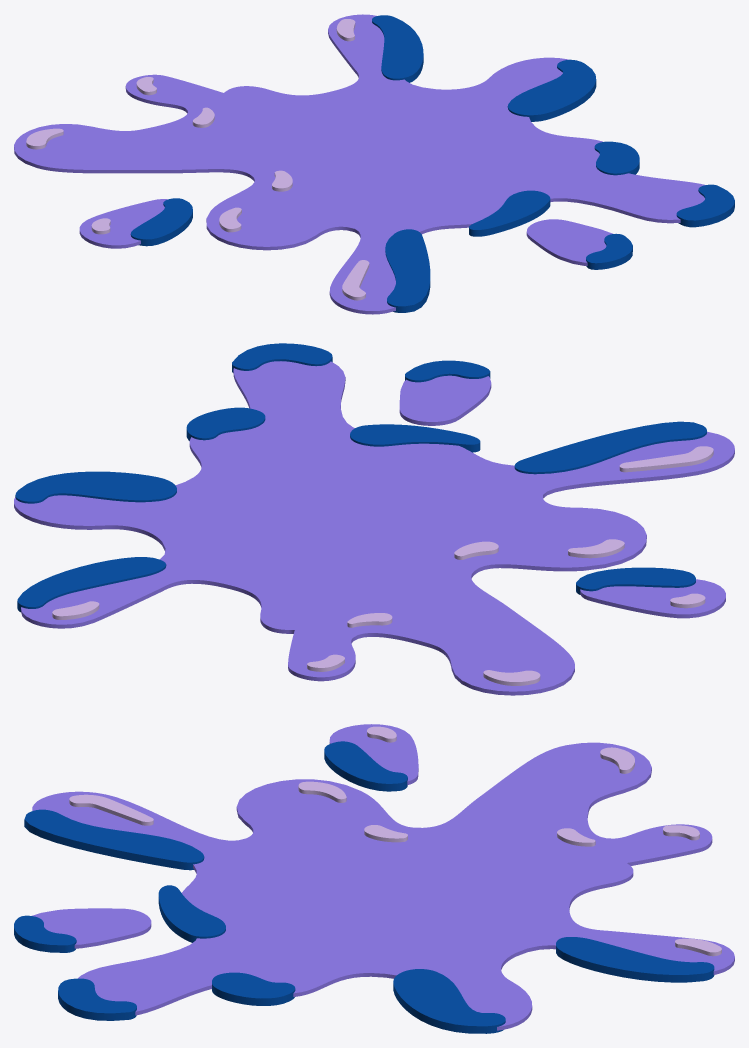
The model's file is emoji_u1fadf.glb.
3 views of the same model, one above another, from view 1: azimuth 30°, elevation 25°; view 2: azimuth 150°, elevation 25°; view 3: azimuth 270°, elevation 25° (orthographic). The views are drawn at different scales.
Visible parts, largest first — view 1: emoji_u1fadf; view 2: emoji_u1fadf; view 3: emoji_u1fadf.
Part boxes in pixels (<box>): emoji_u1fadf: <box>14,14,734,314</box>; emoji_u1fadf: <box>14,343,734,695</box>; emoji_u1fadf: <box>14,724,734,1033</box>.
Size of the model in its own units: 0.0343 by 0.0006 by 0.0344.
